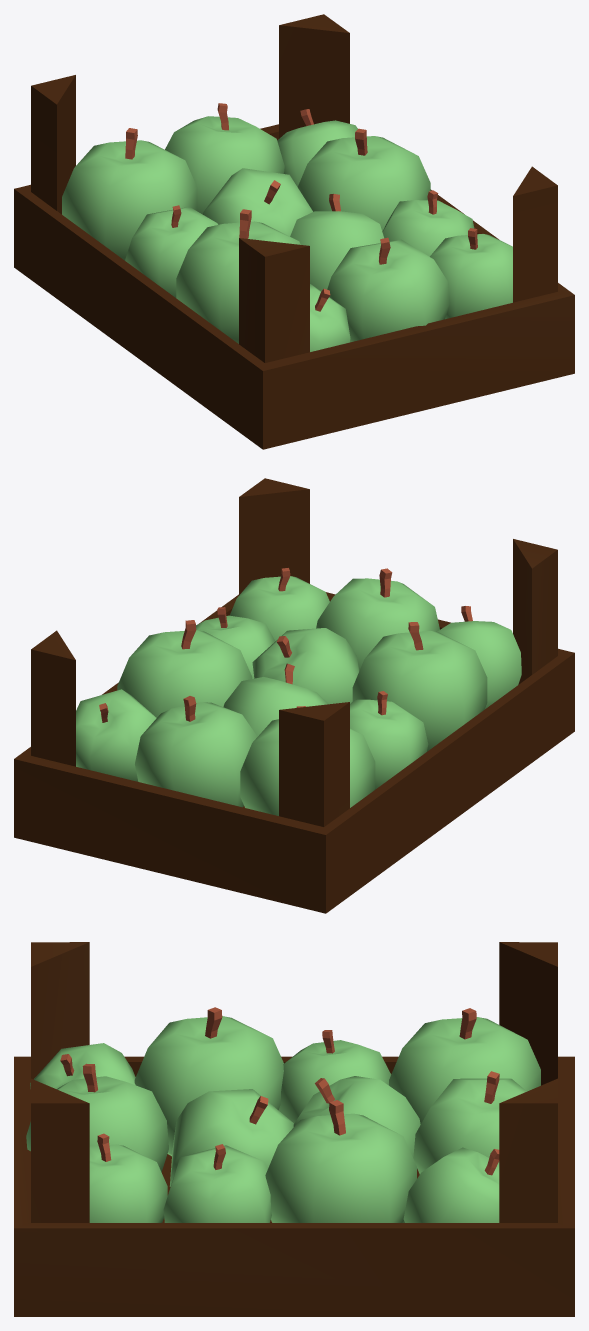
File: apple.fbx
3 views of the same model, one above another, from view 1: azimuth 30°, elevation 25°; view 2: azimuth 150°, elevation 25°; view 3: azimuth 270°, elevation 25° (orthographic). The views are drawn at different scales.
Parts seen in each view (by area): view 1: apple; view 2: apple; view 3: apple.
Part boxes in pixels (x1,y1,x2,y2): apple: (14,14,574,449); apple: (14,478,574,913); apple: (14,942,574,1316).
Bounding box in the file's own units: 160 × 90.52 × 221.
